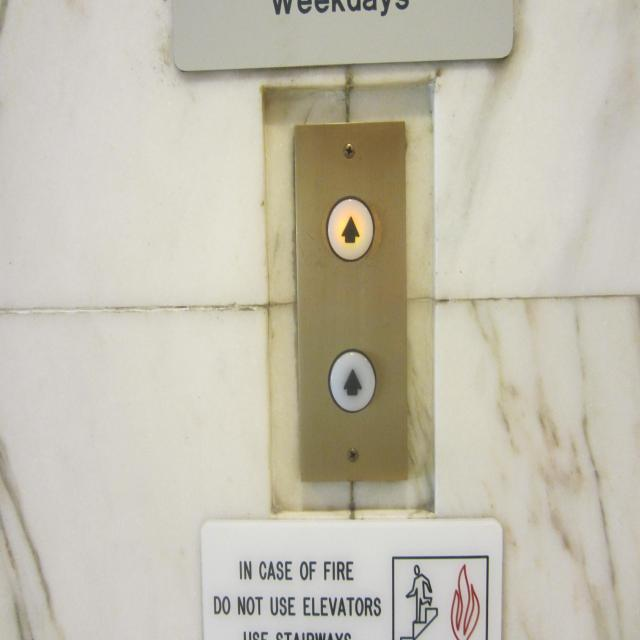down: (326, 347, 376, 414)
up: (325, 195, 376, 262)
